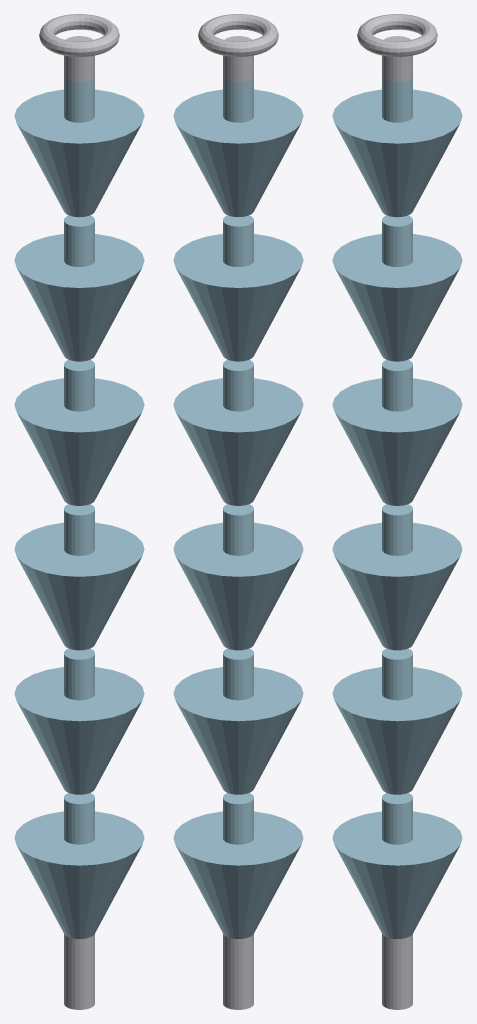
File: Cadena_826mm.fbx
3 views of the same model, side by side, from view 1: azimuth 90°, elevation 25°; view 2: azimuth 150°, elevation 25°; view 3: azimuth 270°, elevation 25° (orthographic).
Visible parts, largest first — view 1: Cadena_826mm; view 2: Cadena_826mm; view 3: Cadena_826mm.
Boxes of the visible parts, box(x1,y1,x2,y2) form: Cadena_826mm: box(14, 14, 144, 1009); Cadena_826mm: box(173, 14, 303, 1009); Cadena_826mm: box(332, 14, 462, 1009).
Size of the model in its own units: 10 by 82.6 by 10.
